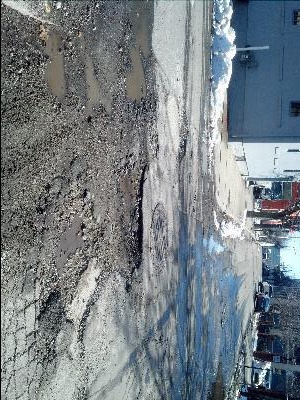pothole: (38, 181, 105, 306), (113, 160, 150, 279), (122, 12, 156, 117), (41, 26, 73, 106), (82, 53, 115, 123), (176, 109, 188, 163)
